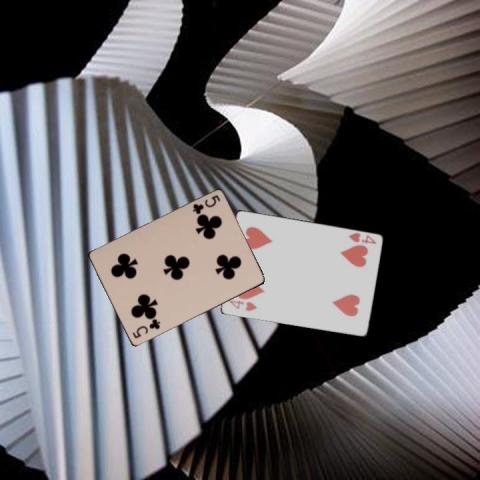4h: (225, 297, 258, 313), (346, 230, 378, 245)
5c: (190, 192, 222, 216), (130, 317, 162, 340)
